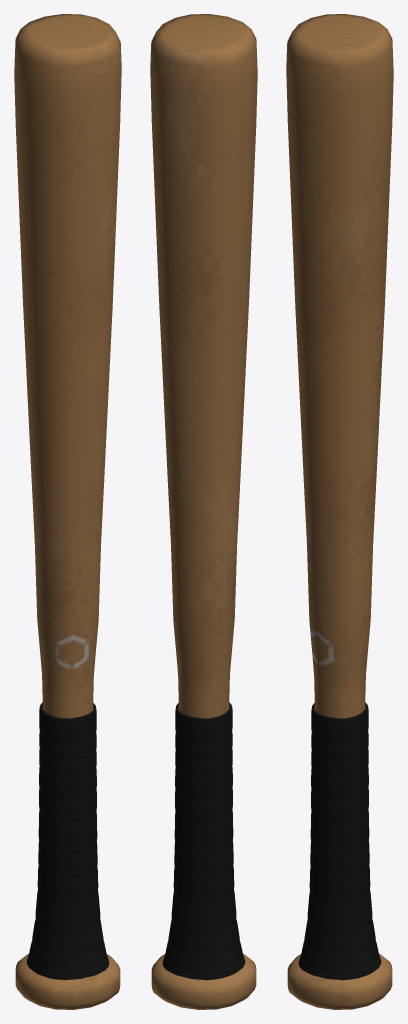
The model's file is baseball_bat.glb.
3 renders of one model, left to right at view 1: azimuth 30°, elevation 25°; view 2: azimuth 150°, elevation 25°; view 3: azimuth 330°, elevation 25°, orthographic.
Visible parts, largest first — view 1: Baseball_Stick_MSH, Handle_MSH; view 2: Baseball_Stick_MSH, Handle_MSH; view 3: Baseball_Stick_MSH, Handle_MSH.
Part boxes in pixels (bbox=[...]): Baseball_Stick_MSH: bbox=[14, 14, 121, 1009]; Handle_MSH: bbox=[26, 702, 109, 979]; Baseball_Stick_MSH: bbox=[150, 14, 257, 1009]; Handle_MSH: bbox=[162, 702, 245, 980]; Baseball_Stick_MSH: bbox=[286, 14, 393, 1009]; Handle_MSH: bbox=[298, 702, 381, 980].
Size of the model in its own units: 0.0214 by 0.2141 by 0.0214.
Materials: 2 (2 with a texture image).
